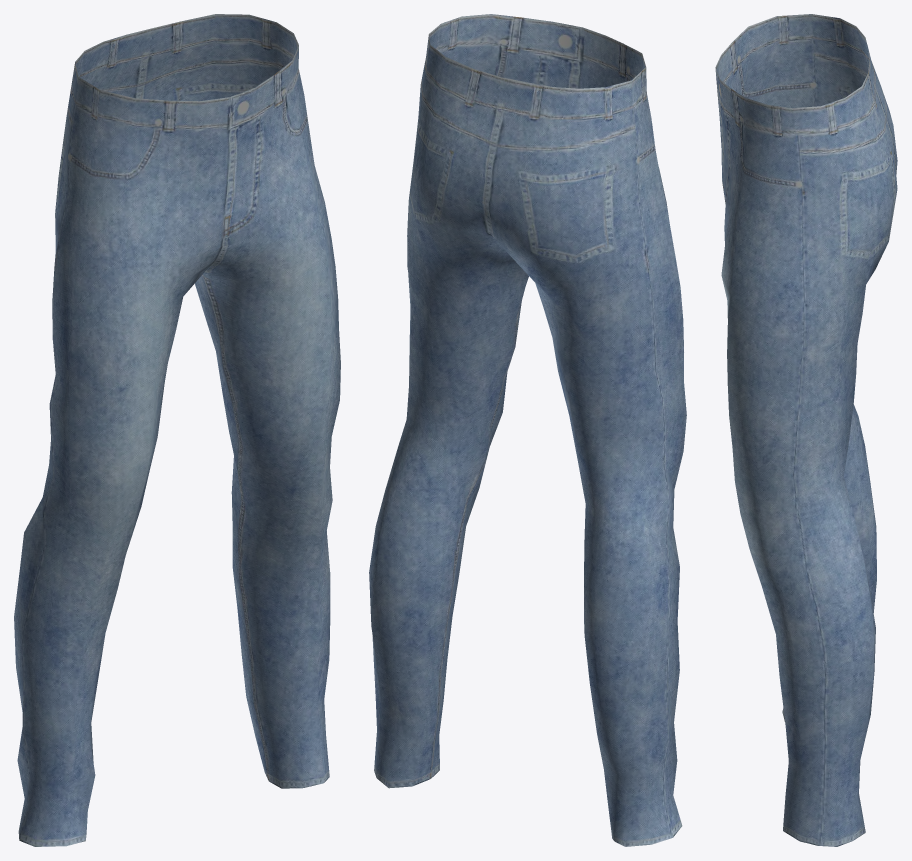
Rendered from jeans.glb.
The picture shows the model from 3 angles, left to right: view 1: azimuth 30°, elevation 25°; view 2: azimuth 150°, elevation 25°; view 3: azimuth 270°, elevation 25°; orthographic projection. The views are drawn at different scales.
Visible parts, largest first — view 1: default_default_0; view 2: default_default_0; view 3: default_default_0.
Part boxes in pixels (x1=…): default_default_0: x1=14, y1=14, x2=340, y2=846; default_default_0: x1=369, y1=14, x2=686, y2=846; default_default_0: x1=715, y1=14, x2=897, y2=846.
Bounding box in the file's own units: 2.45e+07 × 5.93e+07 × 1.35e+07.
1 material, 1 textured.
